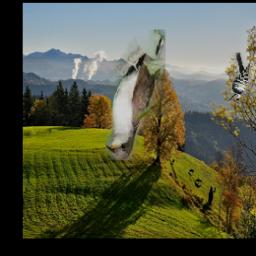Cuckoo: (106, 29, 166, 160)
Woodpecker: (226, 53, 250, 102)
